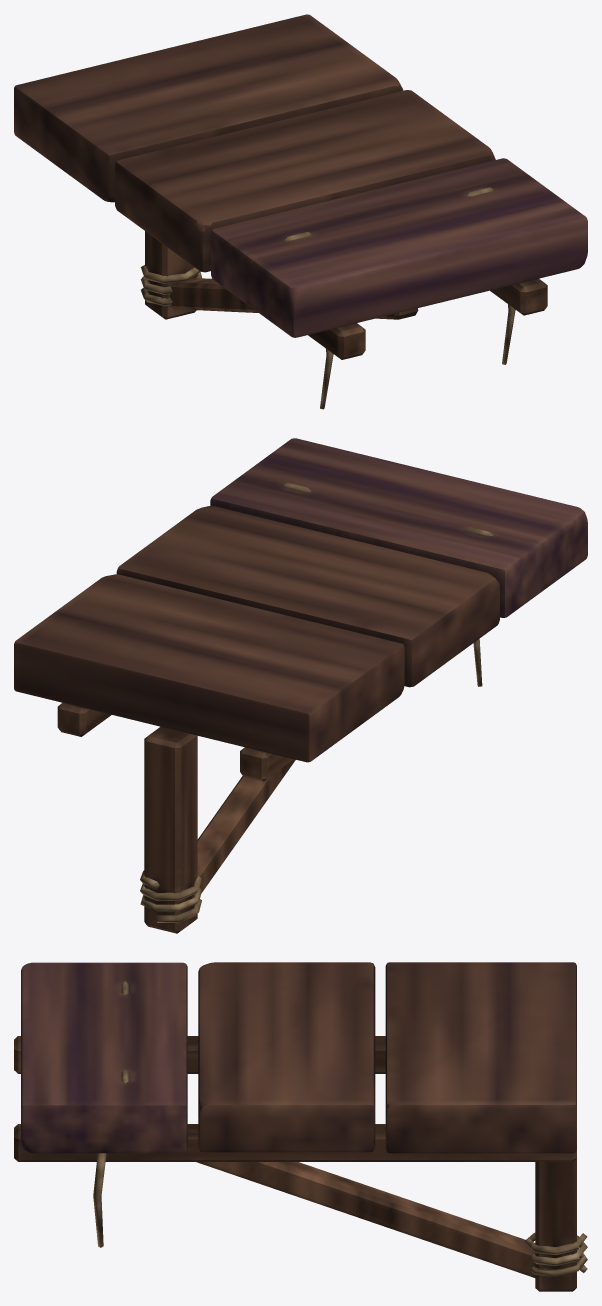
Rendered from StiltVillage_Platform.fbx.
3 views of the same model, one above another, from view 1: azimuth 30°, elevation 25°; view 2: azimuth 150°, elevation 25°; view 3: azimuth 270°, elevation 25° (orthographic).
Parts seen in each view (by area): view 1: StiltVillage_Platform; view 2: StiltVillage_Platform; view 3: StiltVillage_Platform.
Part boxes in pixels (x1,y1,x2,y2): StiltVillage_Platform: (14,14,587,409); StiltVillage_Platform: (14,438,587,933); StiltVillage_Platform: (14,962,587,1291).
Size of the model in its own units: 0.9838 by 0.81 by 1.65.
